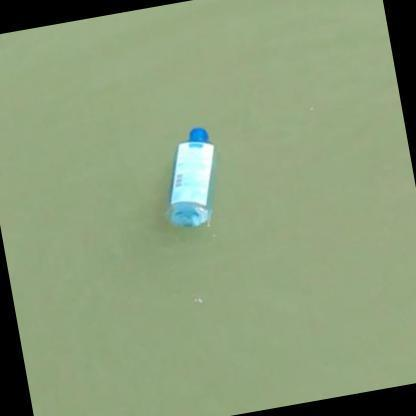plastic bottle: (168, 127, 216, 225)
